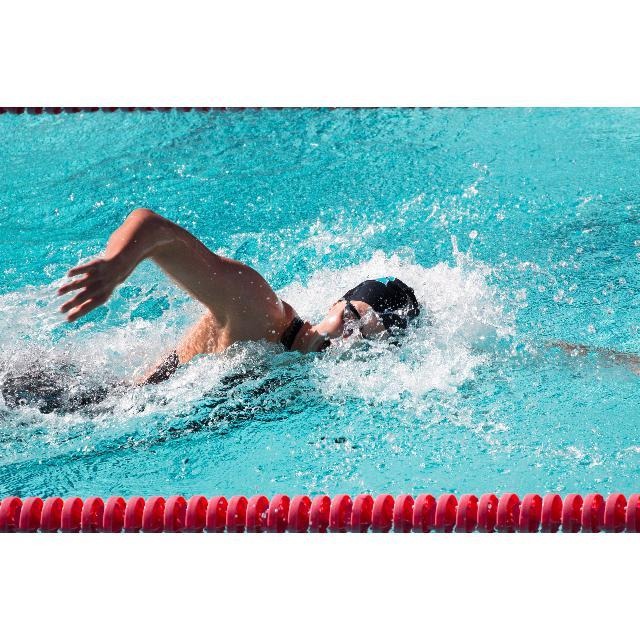human: (60, 207, 417, 388)
